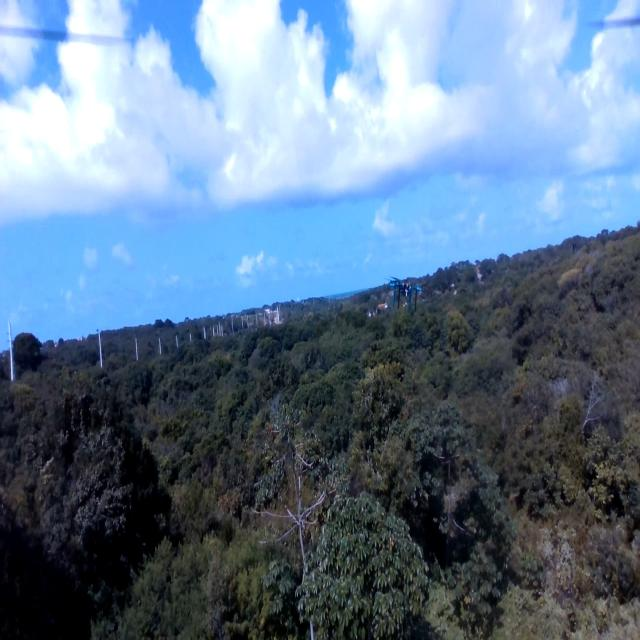-uav-: (378, 264, 430, 323)
